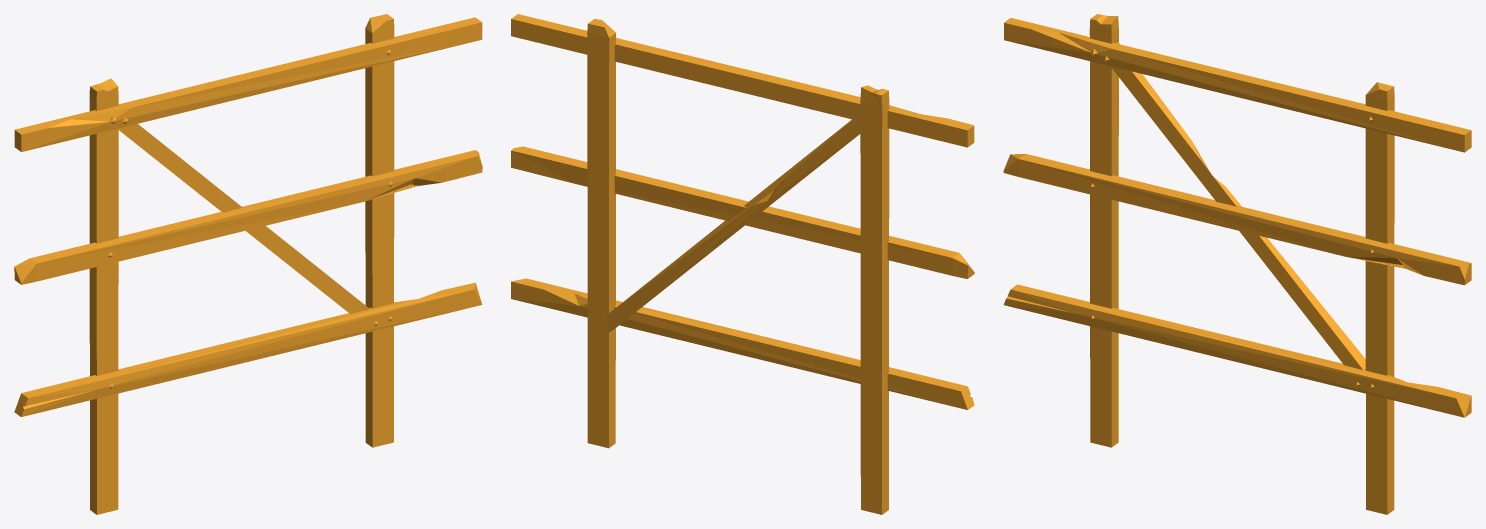
The model's file is SM_Hay_Drying_Rack_Square_B.fbx.
3 renders of one model, left to right at view 1: azimuth 30°, elevation 25°; view 2: azimuth 150°, elevation 25°; view 3: azimuth 330°, elevation 25°, orthographic.
Parts seen in each view (by area): view 1: hay-drying-rack-square-b; view 2: hay-drying-rack-square-b; view 3: hay-drying-rack-square-b.
Part boxes in pixels (x1,y1,x2,y2): hay-drying-rack-square-b: (14, 14, 482, 514); hay-drying-rack-square-b: (511, 14, 974, 514); hay-drying-rack-square-b: (1003, 14, 1471, 514).
Size of the model in its own units: 1.94 by 1.72 by 0.1087.
